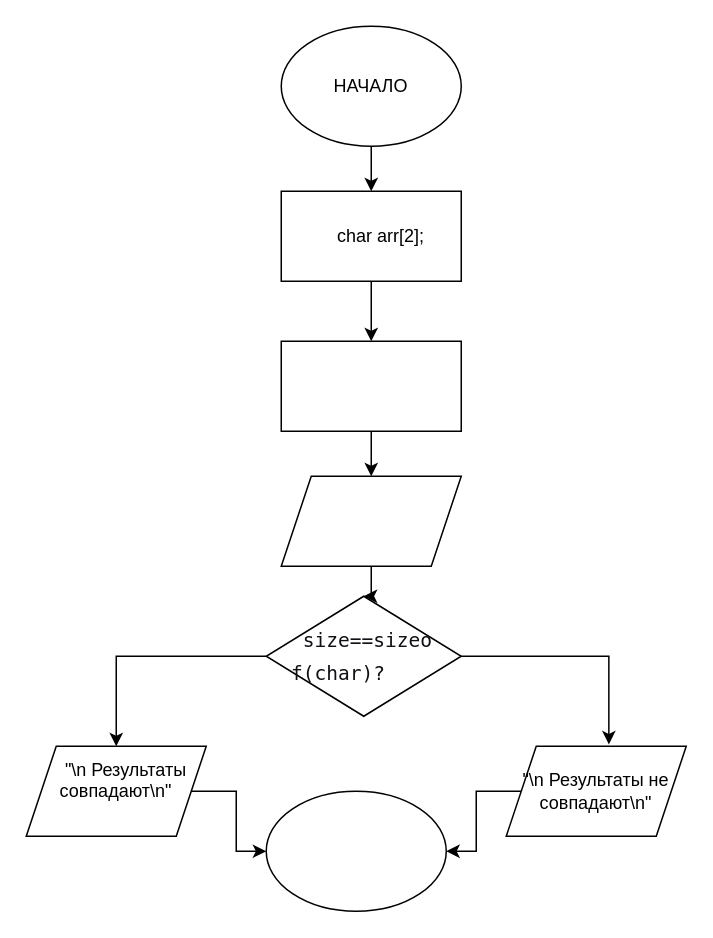
This 713x938 diagram has some shape labels left out. The shapes that lost their labels are listed below. From the top down, each one's box as (x1, y1, x2, y2) in pixels, then its label:
(280, 340, 461, 431): long size = (char*)(&arr[1]) - (char*)(&arr[0]);
(280, 475, 461, 566): printf("Разница: %ld\n", size);
(265, 790, 446, 911): КОНЕЦ
